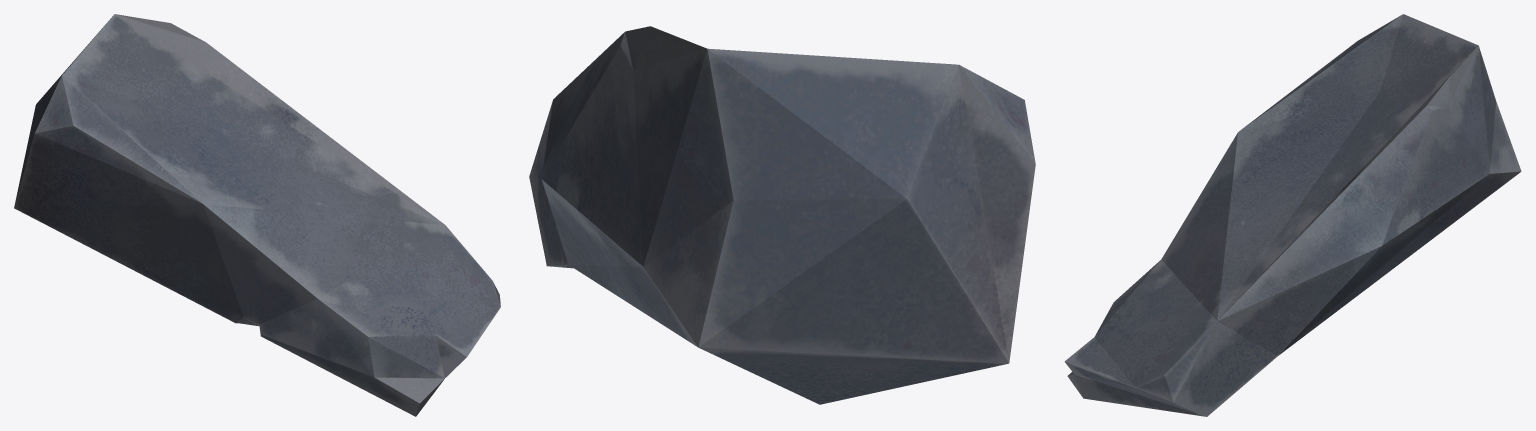
Rendered from rock9.glb.
The picture shows the model from 3 angles, left to right: view 1: azimuth 30°, elevation 25°; view 2: azimuth 150°, elevation 25°; view 3: azimuth 270°, elevation 25°; orthographic projection. The views are drawn at different scales.
Parts seen in each view (by area): view 1: Object_13; view 2: Object_13; view 3: Object_13.
Part boxes in pixels (left/top/right/bottom): Object_13: left=14, top=14, right=500, bottom=416; Object_13: left=529, top=26, right=1035, bottom=404; Object_13: left=1064, top=14, right=1521, bottom=416.
Size of the model in its own units: 4.71 by 3.58 by 4.98.
Materials: 1 (1 with a texture image).
